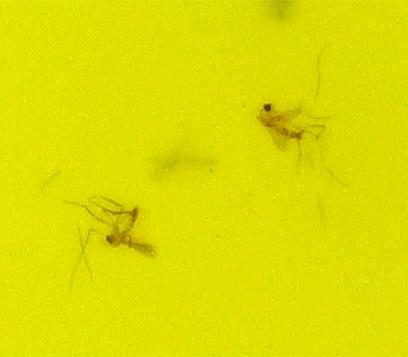Nematocera: (100, 198, 155, 257), (256, 100, 308, 149)
